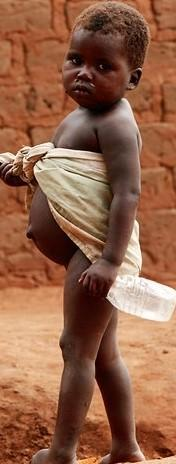Stunting: (45, 10, 176, 158)
